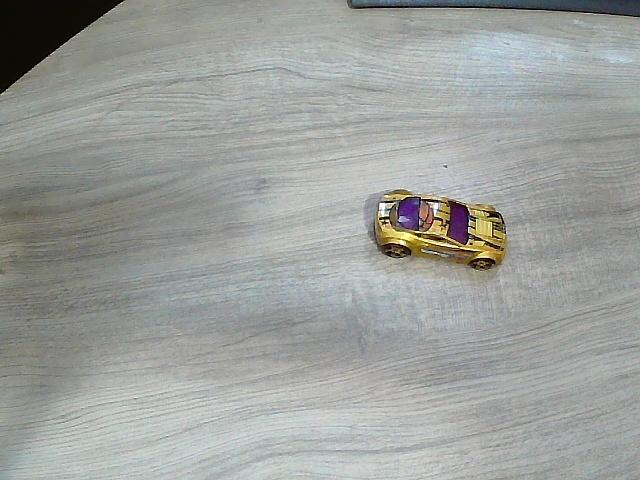Carro: (370, 191, 507, 270)
